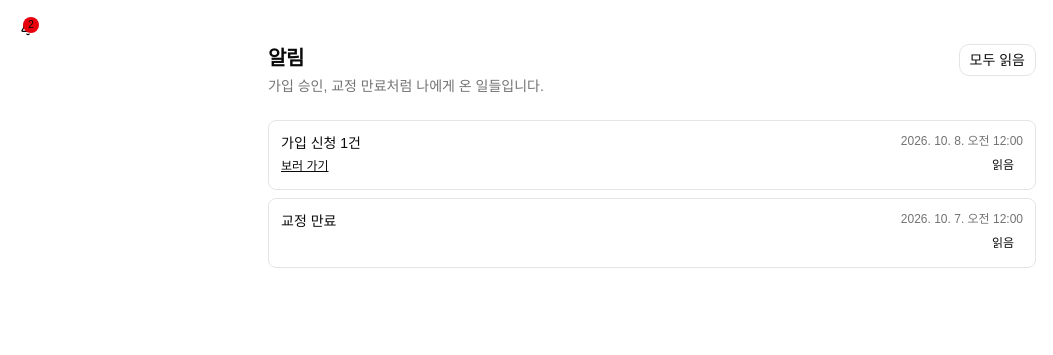
알림 › 「모두 읽음」 이 실패하면 그 이유가 보인다
expect the text "교정 만료" is shown: met, box [281, 211, 336, 231]
Click the button "모두 읽음". click: (997, 60)
box: [959, 44, 1036, 76]
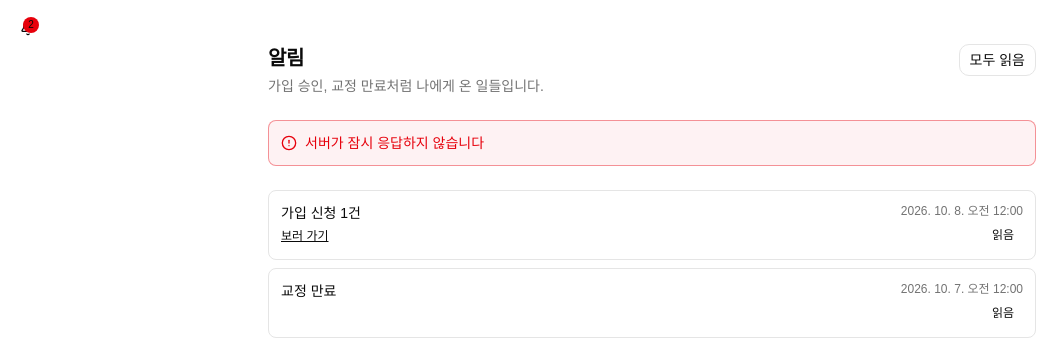
expect the text "서버가 잠시 응답하지 않습니다" is shown: met, box [305, 133, 484, 153]
